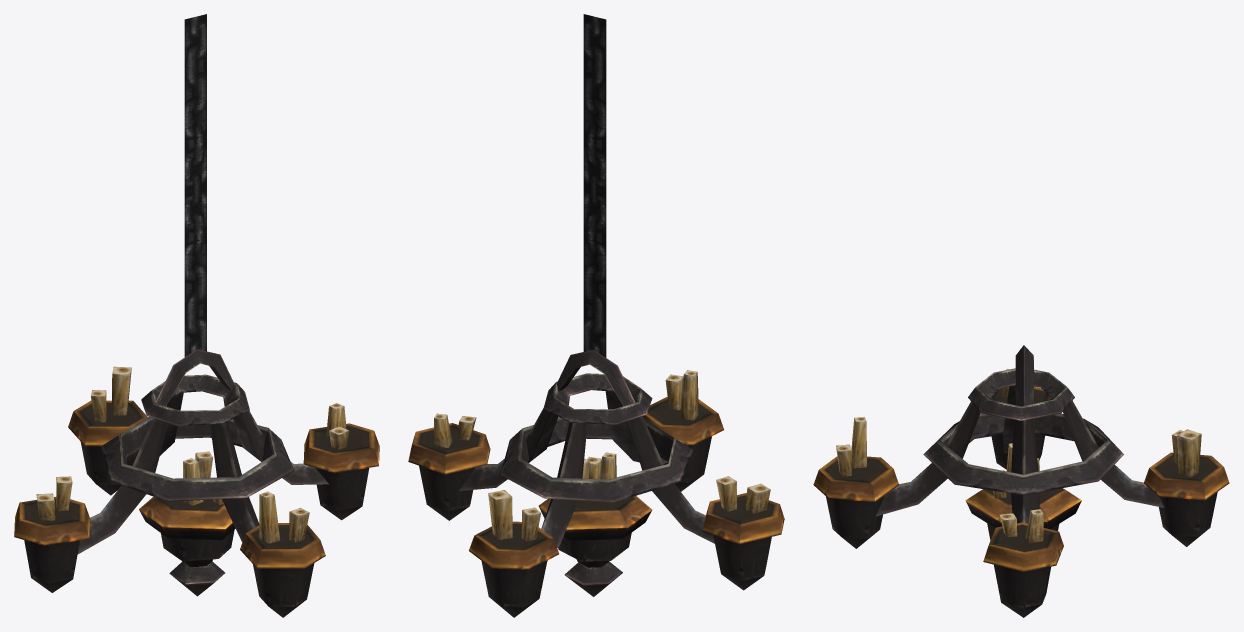
Rendered from section03_guanka10_5.FBX.
The picture shows the model from 3 angles, left to right: view 1: azimuth 30°, elevation 25°; view 2: azimuth 150°, elevation 25°; view 3: azimuth 270°, elevation 25°; orthographic projection. The views are drawn at different scales.
Visible parts, largest first — view 1: section03_guanka10_5; view 2: section03_guanka10_5; view 3: section03_guanka10_5.
Boxes of the visible parts, x1,y1,x2,y2 form: section03_guanka10_5: (14, 14, 379, 617); section03_guanka10_5: (408, 14, 784, 617); section03_guanka10_5: (813, 345, 1229, 617).
Size of the model in its own units: 6.66 by 6.66 by 10.04.
